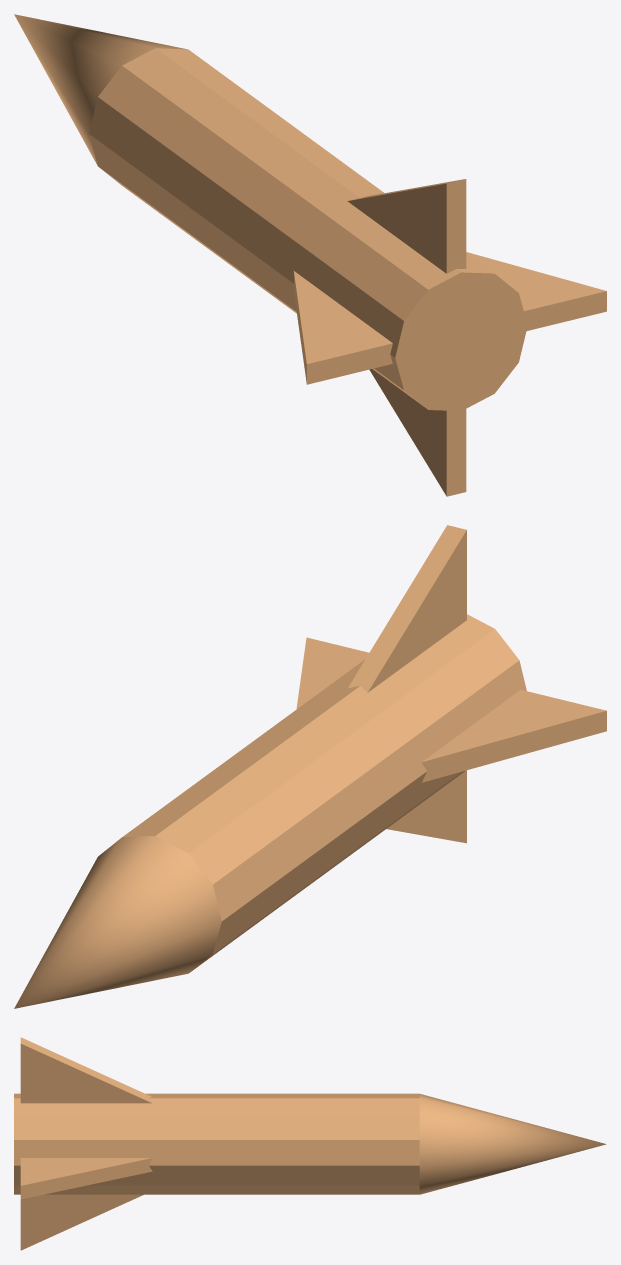
File: MISSILE.fbx
3 renders of one model, top to bottom at view 1: azimuth 30°, elevation 25°; view 2: azimuth 150°, elevation 25°; view 3: azimuth 270°, elevation 25°, orthographic. The views are drawn at different scales.
Parts seen in each view (by area): view 1: MISSILE; view 2: MISSILE; view 3: MISSILE.
Part boxes in pixels (x1=…): MISSILE: x1=14, y1=14, x2=606, y2=496; MISSILE: x1=14, y1=525, x2=606, y2=1008; MISSILE: x1=14, y1=1037, x2=606, y2=1250.
Bounding box in the file's own units: 0.679 × 0.677 × 1.75.
